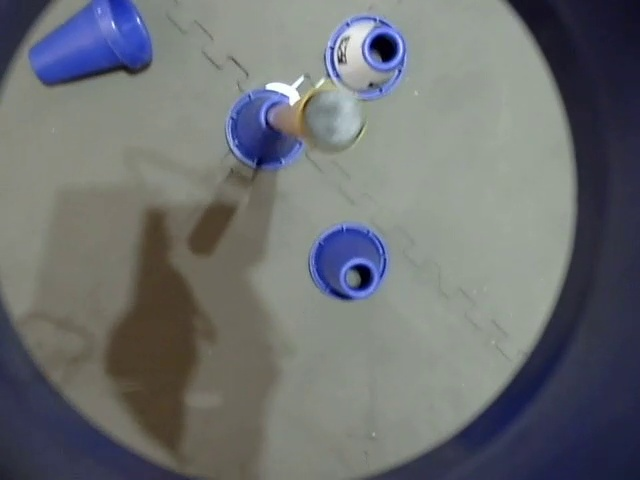tip: (300, 90, 369, 156)
